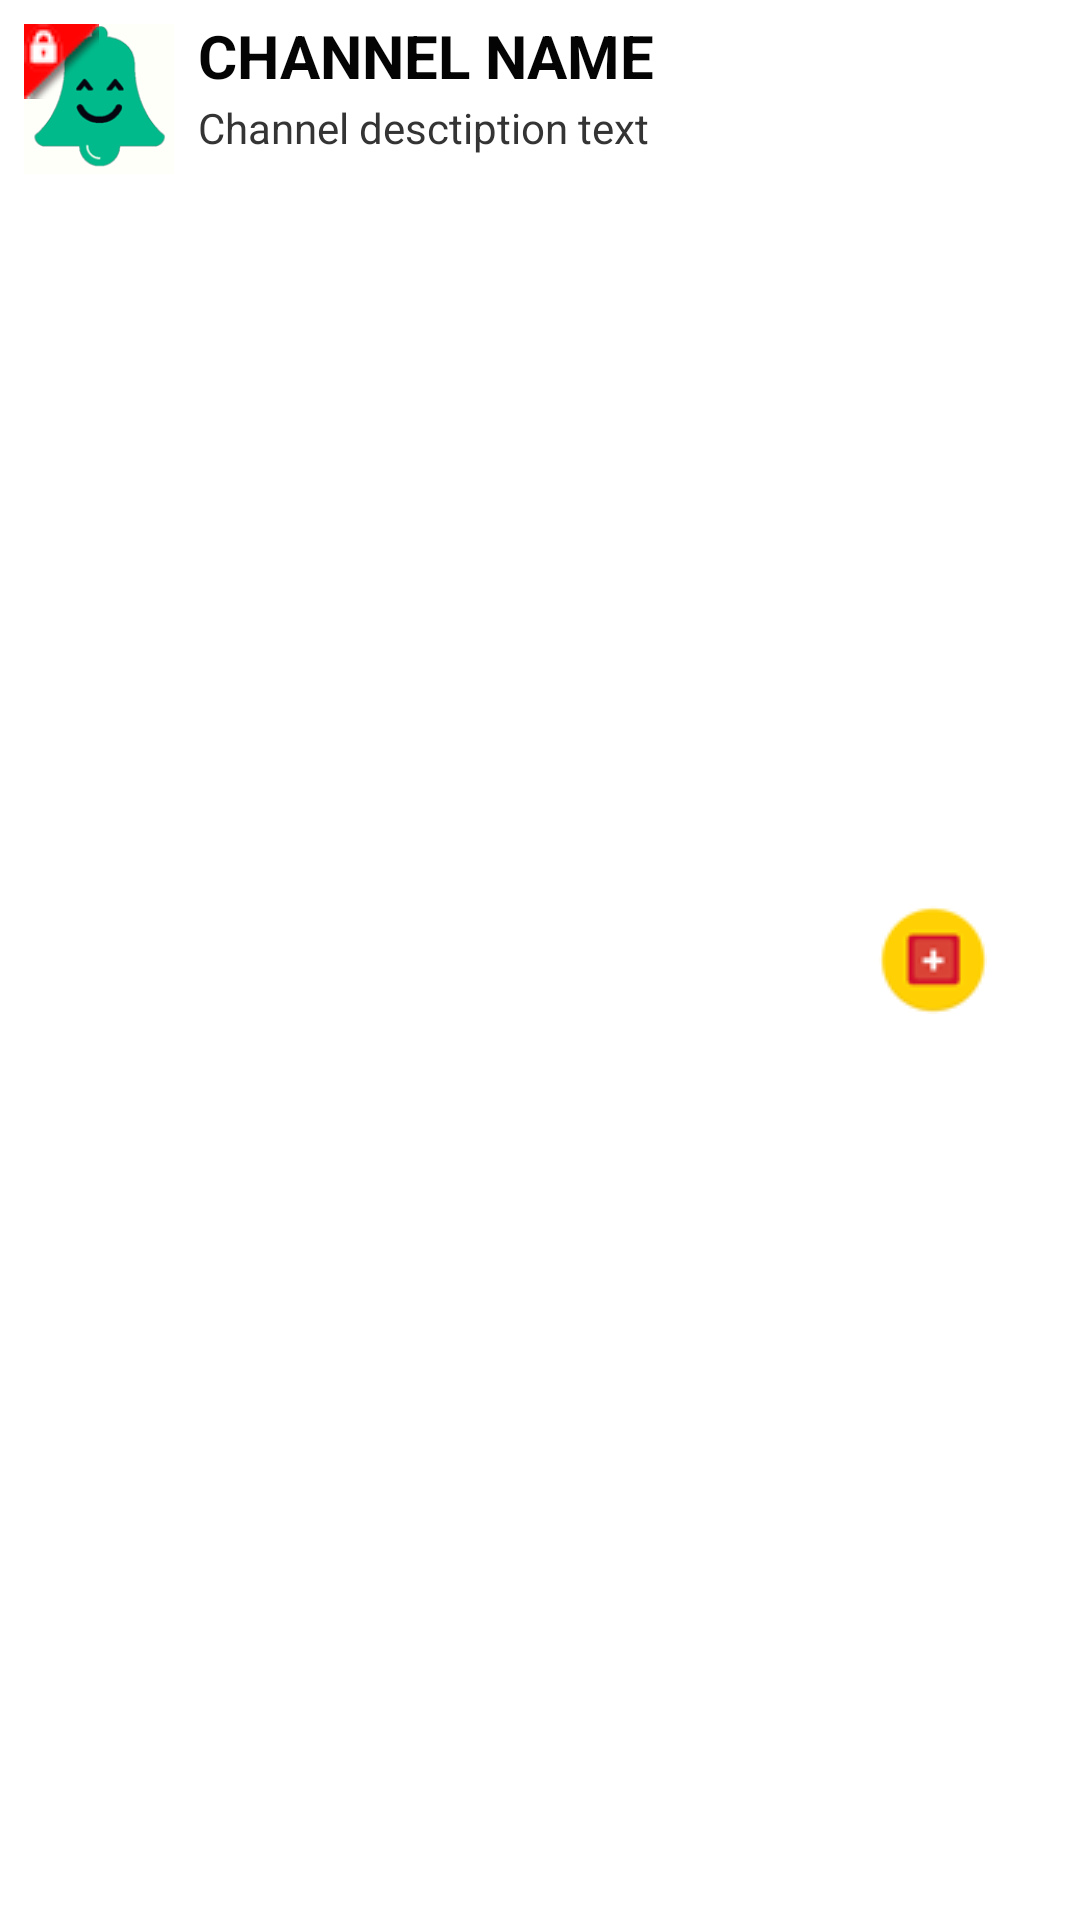

Point at icon controls on the screen. Image size 1080px x 1920px, points as [x,y].
add: [934,961]
channel lock: [61,61]
